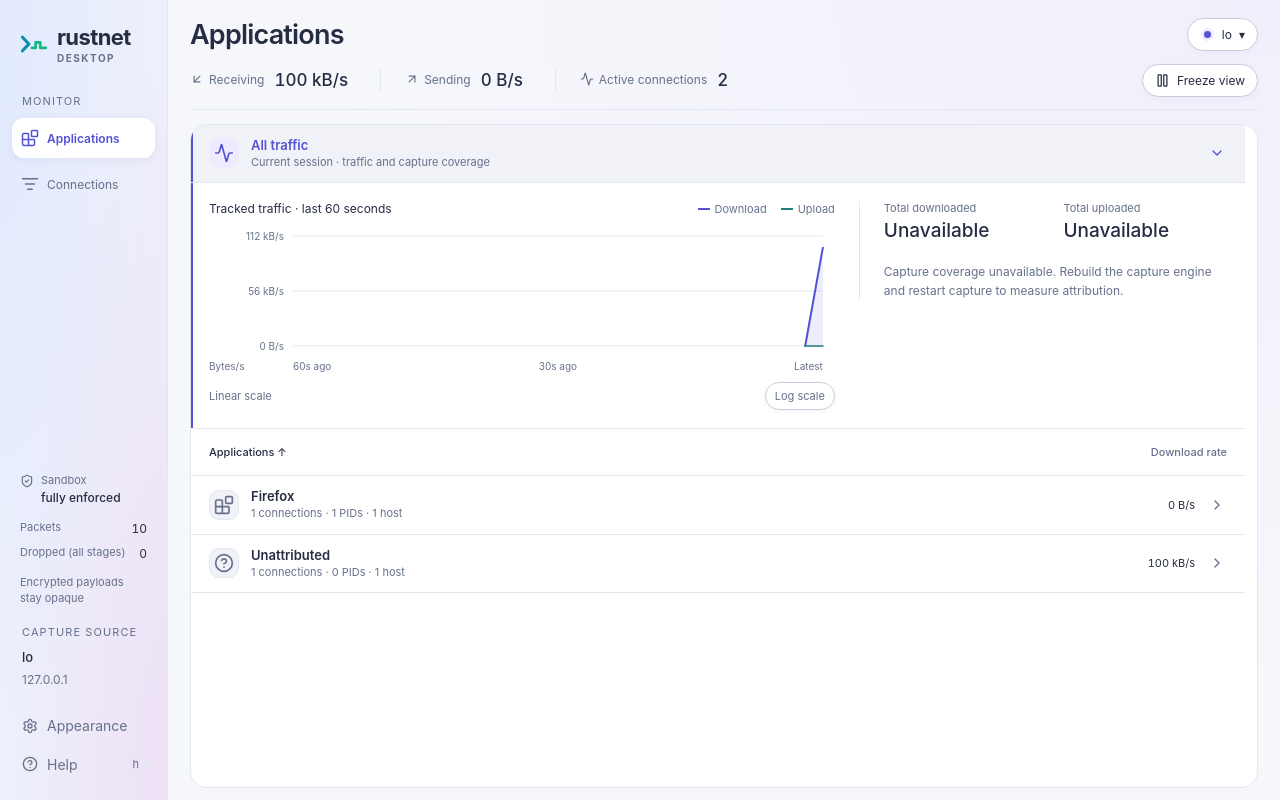
Test case: desktop workflow › keeps both lists alphabetical as rates change, then sorts by download on request
expect the button "Firefox 1 connections · 1 PIDs · 1 host 0 B/s" is shown: met, box [191,476,1245,534]
expect the button "Unattributed 1 connections · 0 PIDs · 1 host 100 kB/s" is shown: met, box [191,534,1245,593]
Click the button with aria-label "Sort applications by download rate" at (1189, 452), box [1151,442,1227,462]
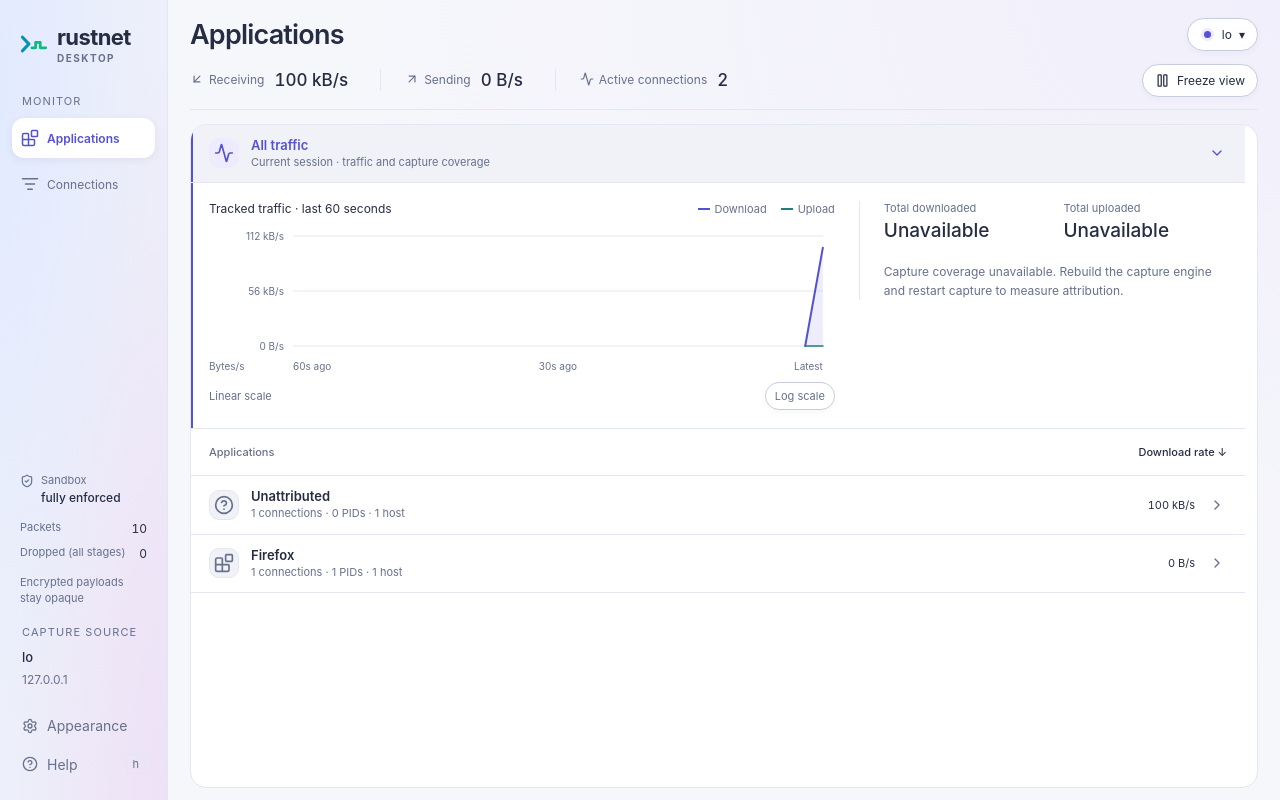
expect the button "Unattributed 1 connections · 0 PIDs · 1 host 100 kB/s" is shown: met, box [191,476,1245,534]
Click the button "Connections" at (84, 184), box [12,164,155,204]
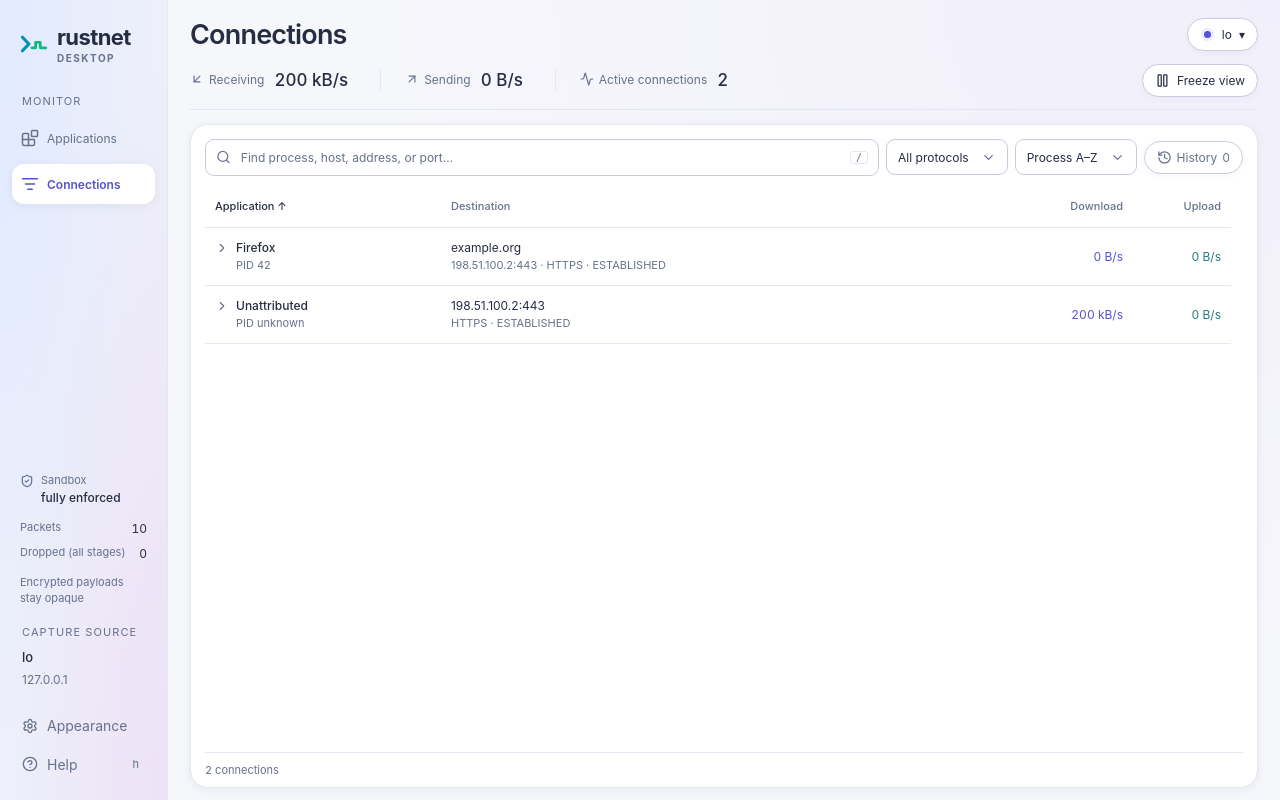
expect the text "Firefox" is shown: met, box [236,240,276,255]
Click the button with aria-label "Sort by download rate" at (1097, 206), box [1070,196,1123,216]
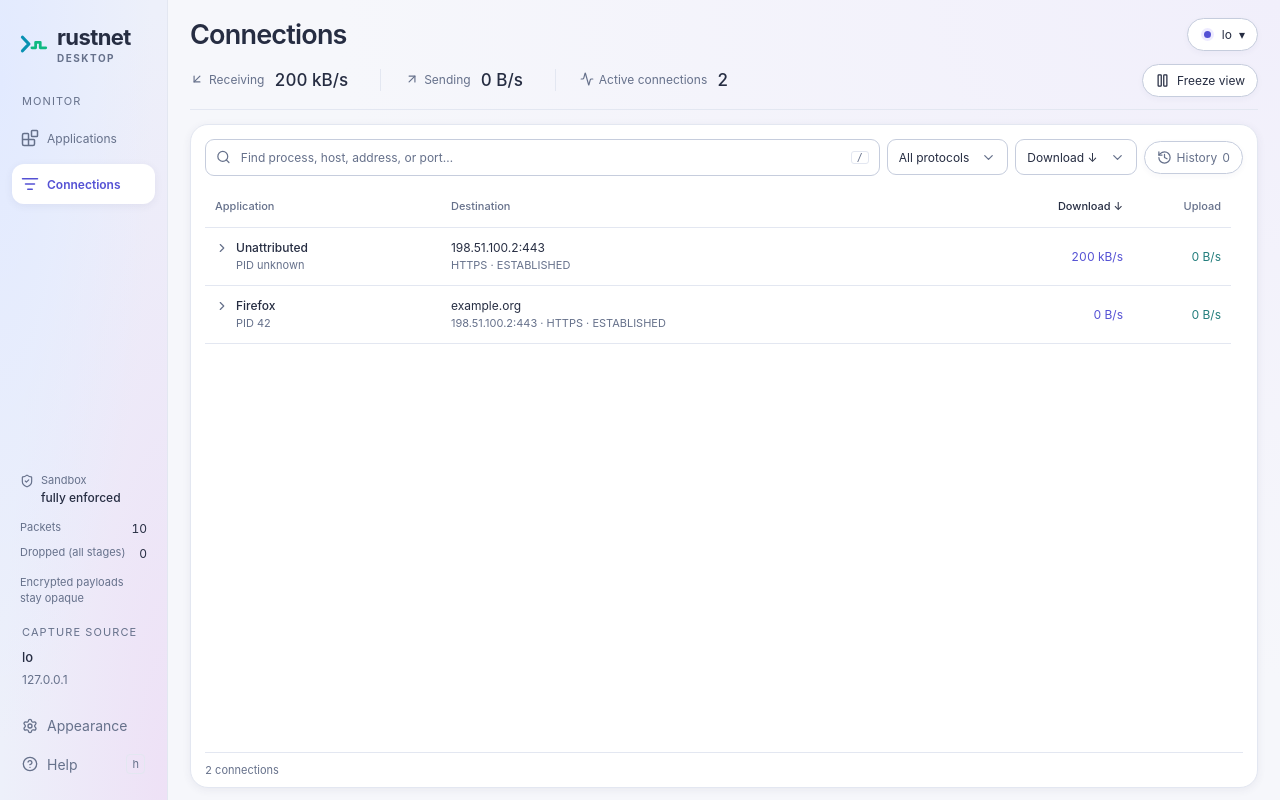
expect the text "Unattributed" is shown: met, box [236,240,308,255]
expect the dropdown named "Sort connections" reads "Download ↓": met, box [1015,139,1137,175]
